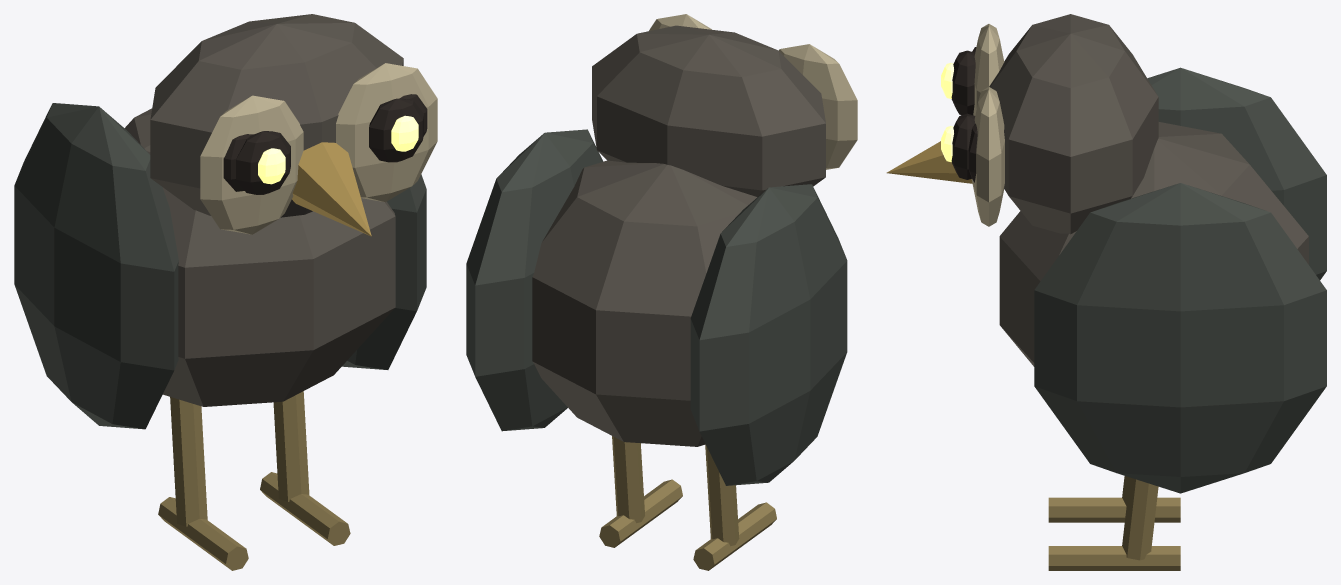
File: fauna-dusk_owl.glb
The picture shows the model from 3 angles, left to right: view 1: azimuth 30°, elevation 25°; view 2: azimuth 150°, elevation 25°; view 3: azimuth 270°, elevation 25°; orthographic projection. The views are drawn at different scales.
Visible parts, largest first — view 1: Fauna_dusk_owl; view 2: Fauna_dusk_owl; view 3: Fauna_dusk_owl.
Boxes of the visible parts, left/top/right/bottom form: Fauna_dusk_owl: left=14, top=14, right=437, bottom=570; Fauna_dusk_owl: left=466, top=14, right=857, bottom=570; Fauna_dusk_owl: left=886, top=14, right=1326, bottom=570.
Bounding box in the file's own units: 0.8483 × 1.28 × 1.
